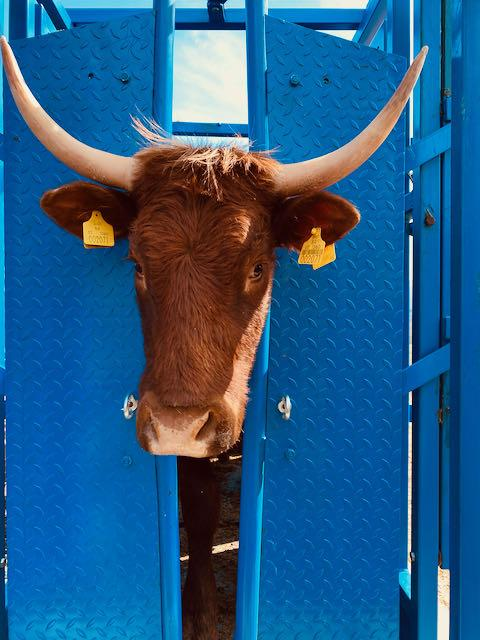muzzles: (124, 390, 242, 469)
